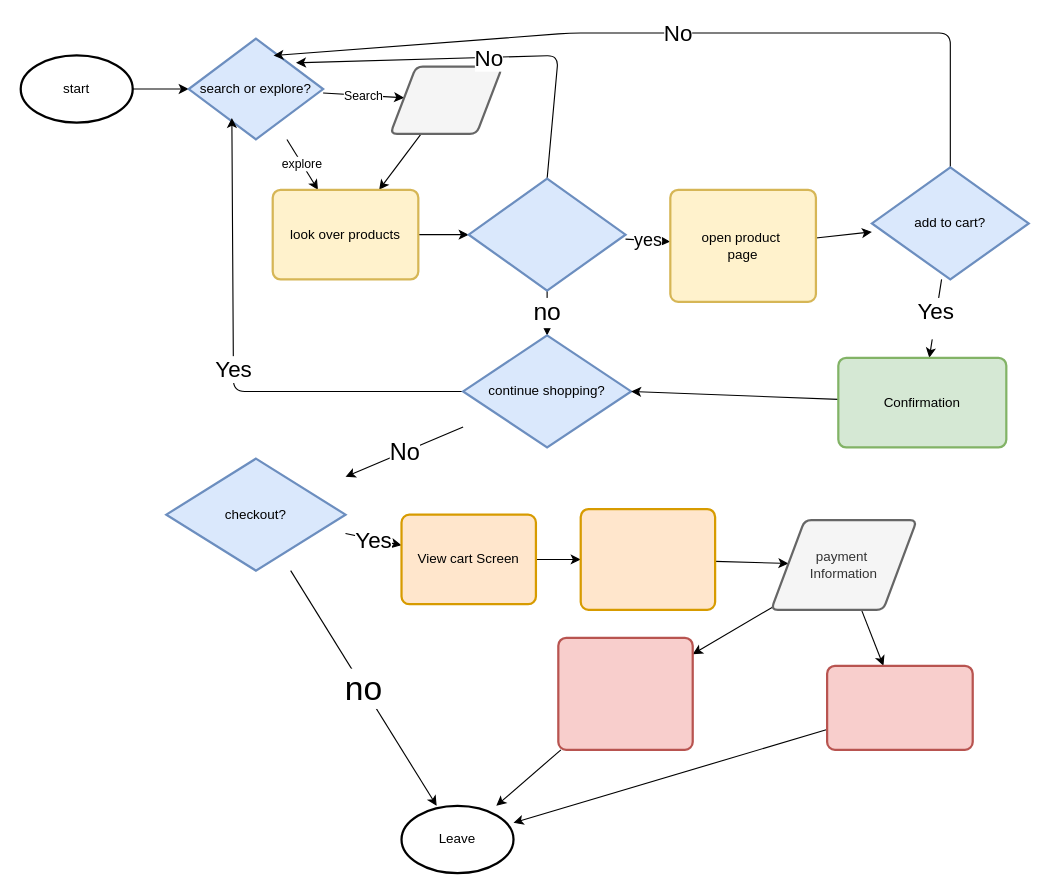
The diagram is 1048 pixels wide and 893 high, and some of its shapes have lost their labels. The shapes that lost their labels are listed below. From the top down, each one's centre as x and y in pixels, then its label:
At point 446,99: "input data of search".
At point 546,234: "view specific product?".
At point 647,558: "View payment Screen".
At point 625,693: "send email to user".
At point 899,707: "Order Confirmation".
